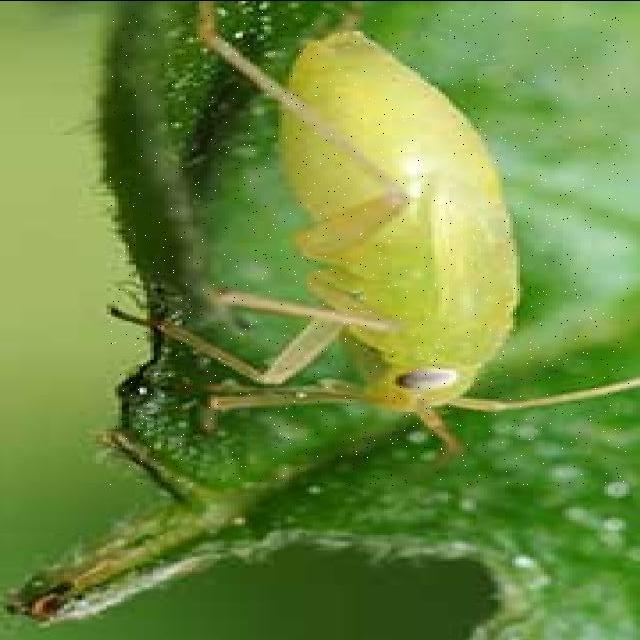aphid: (109, 9, 628, 485)
